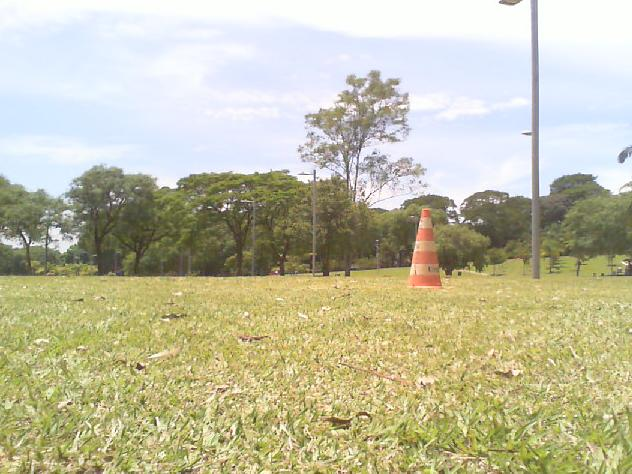0 cone: (408, 209, 444, 288)
